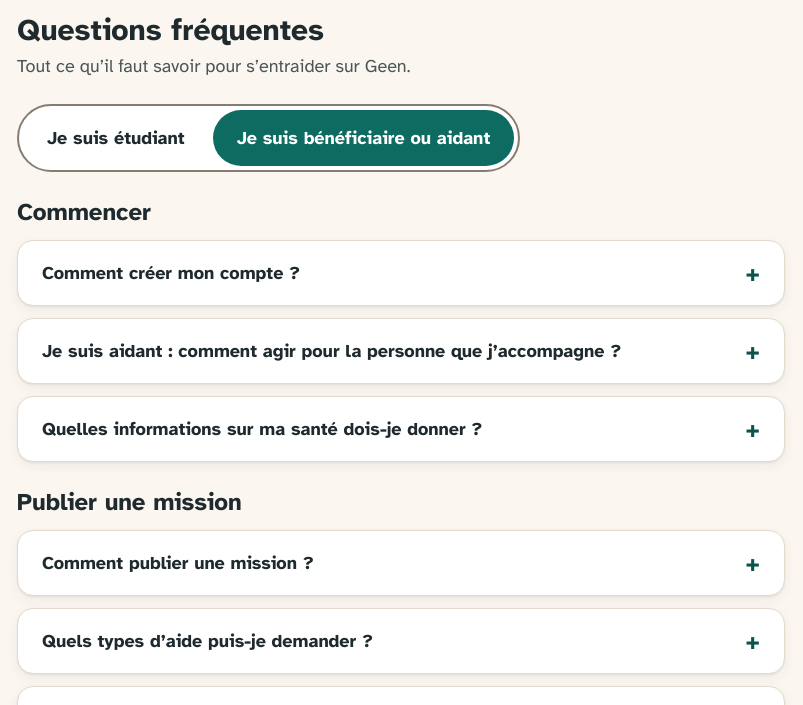
Test: FaqView › opens the tab given in the address, and keeps the chosen one in it
Click the button "Je suis étudiant".
click(116, 138)  # box [23, 110, 209, 166]
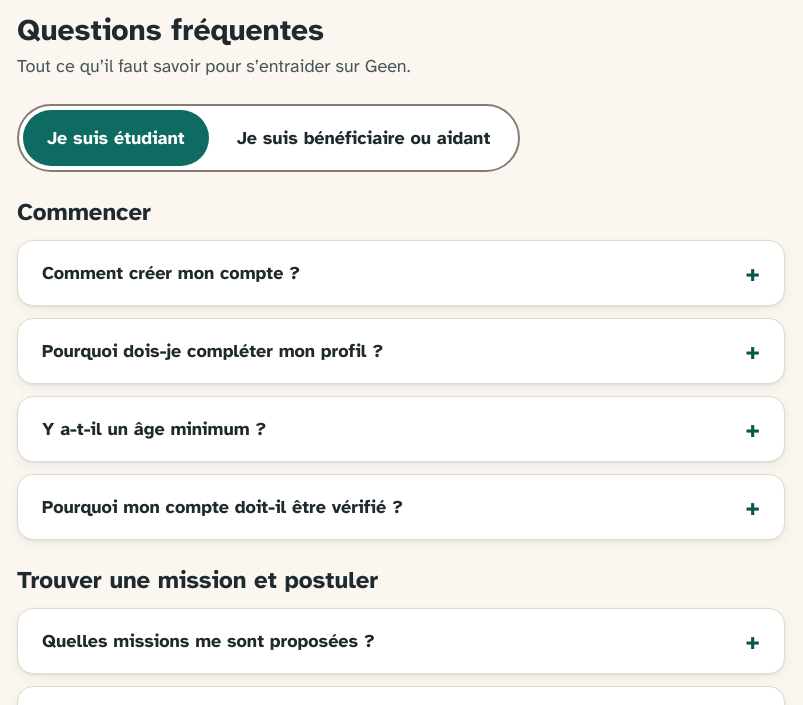
Expected: the text "Quelles missions me sont proposées ?" is shown, [42, 626, 760, 656]
